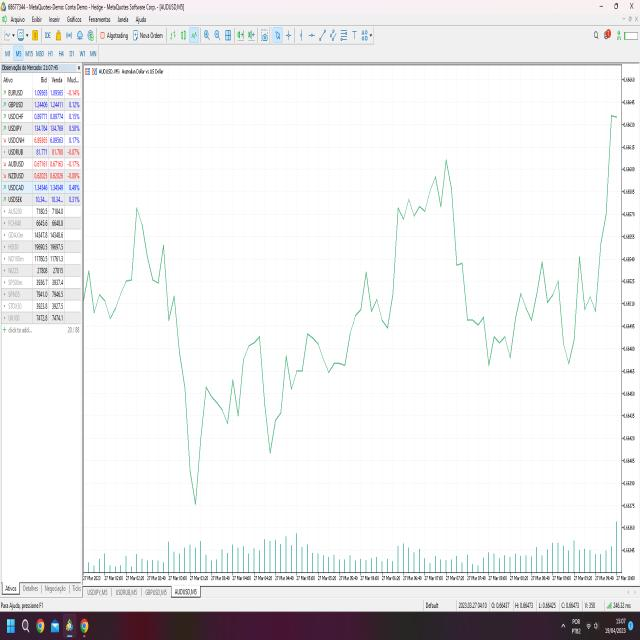fundo_duplo: (474, 278, 520, 382)
oco: (510, 242, 566, 336)
oco_inv: (542, 251, 602, 381)
